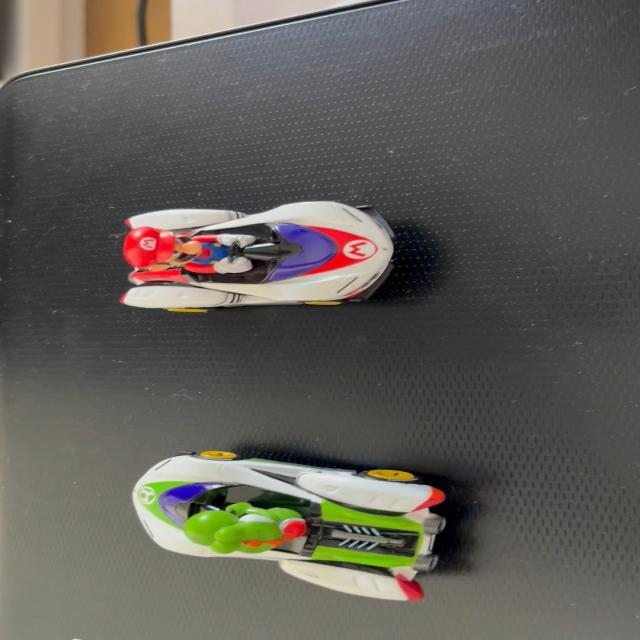mario: (115, 195, 402, 318)
yoshi: (86, 434, 489, 626)
